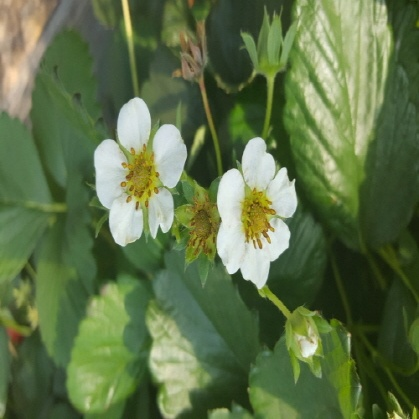Blossom_BT: (239, 168, 282, 247), (117, 203, 162, 275), (186, 164, 219, 244)
